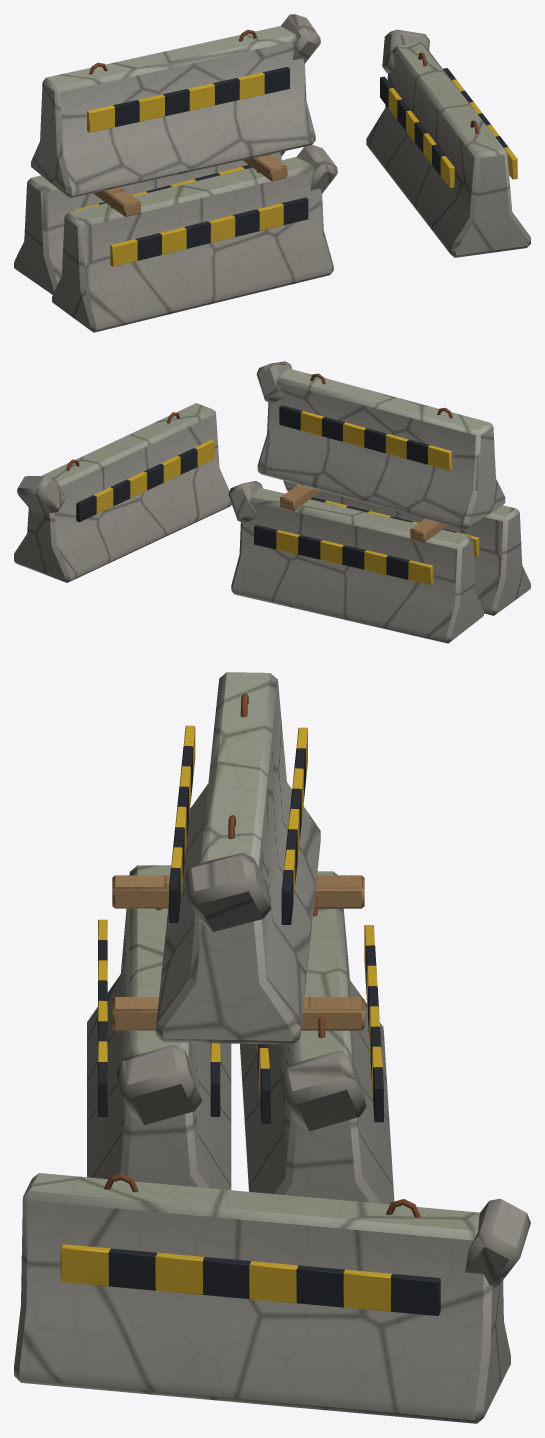
The model's file is jersey_barrier_stack.glb.
The picture shows the model from 3 angles, top to bottom: view 1: azimuth 30°, elevation 25°; view 2: azimuth 150°, elevation 25°; view 3: azimuth 270°, elevation 25°; orthographic projection. The views are drawn at different scales.
Parts seen in each view (by area): view 1: jersey_barrier_stack; view 2: jersey_barrier_stack; view 3: jersey_barrier_stack.
Part boxes in pixels (x1,y1,x2,y2): jersey_barrier_stack: (14, 14, 530, 332); jersey_barrier_stack: (14, 361, 530, 643); jersey_barrier_stack: (14, 672, 530, 1423).
Bounding box in the file's own units: 3.85 × 1.78 × 2.15.
6 materials, 6 textured.
